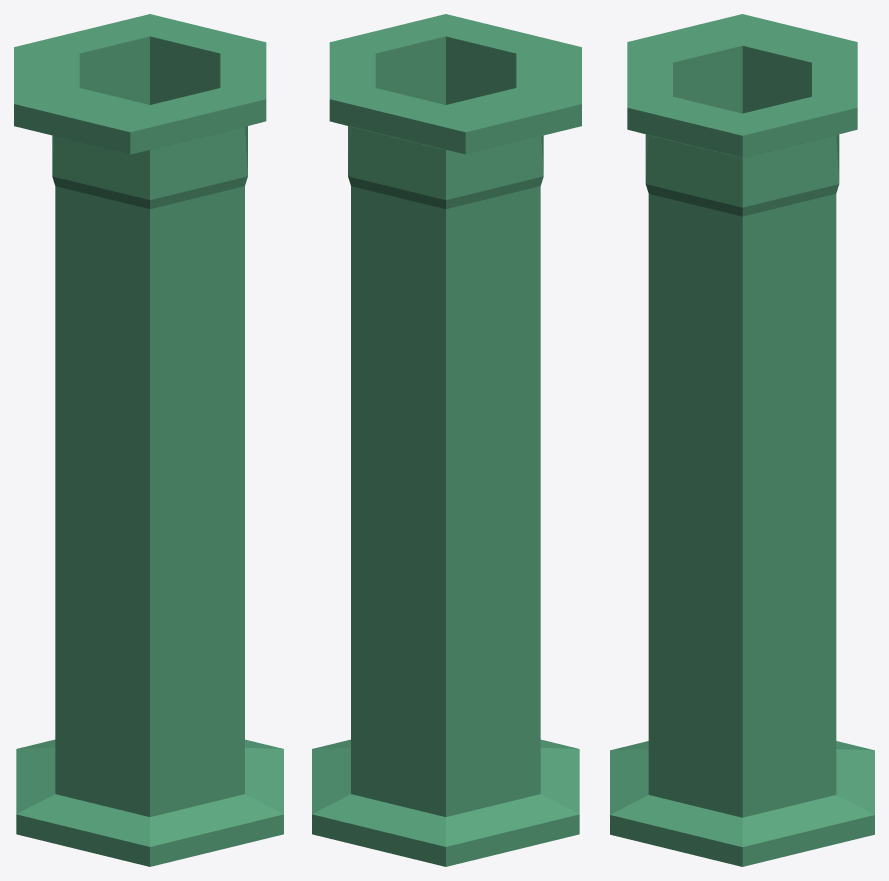
File: fiole_3.fbx
The picture shows the model from 3 angles, left to right: view 1: azimuth 30°, elevation 25°; view 2: azimuth 150°, elevation 25°; view 3: azimuth 270°, elevation 25°; orthographic projection.
Visible parts, largest first — view 1: pCylinder2; view 2: pCylinder2; view 3: pCylinder2.
Part boxes in pixels (left/top/right/bottom): pCylinder2: left=14, top=14, right=283, bottom=866; pCylinder2: left=312, top=14, right=581, bottom=866; pCylinder2: left=610, top=14, right=874, bottom=866.
Size of the model in its own units: 1.45 by 3.74 by 1.24.
